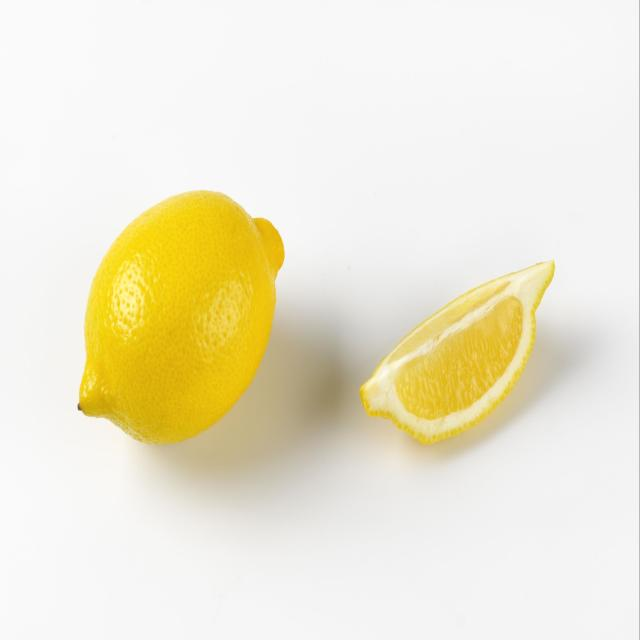lemon: (76, 186, 289, 450), (356, 258, 558, 452)
